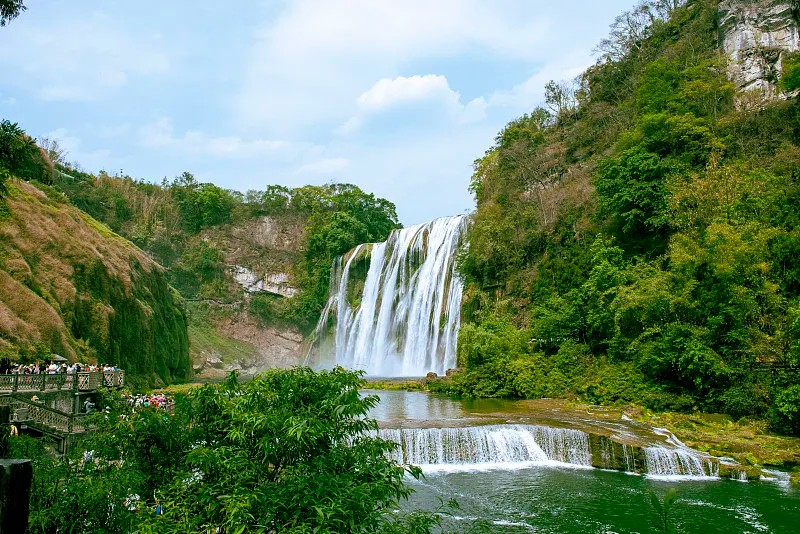Huangguoshu: (314, 214, 470, 377)
